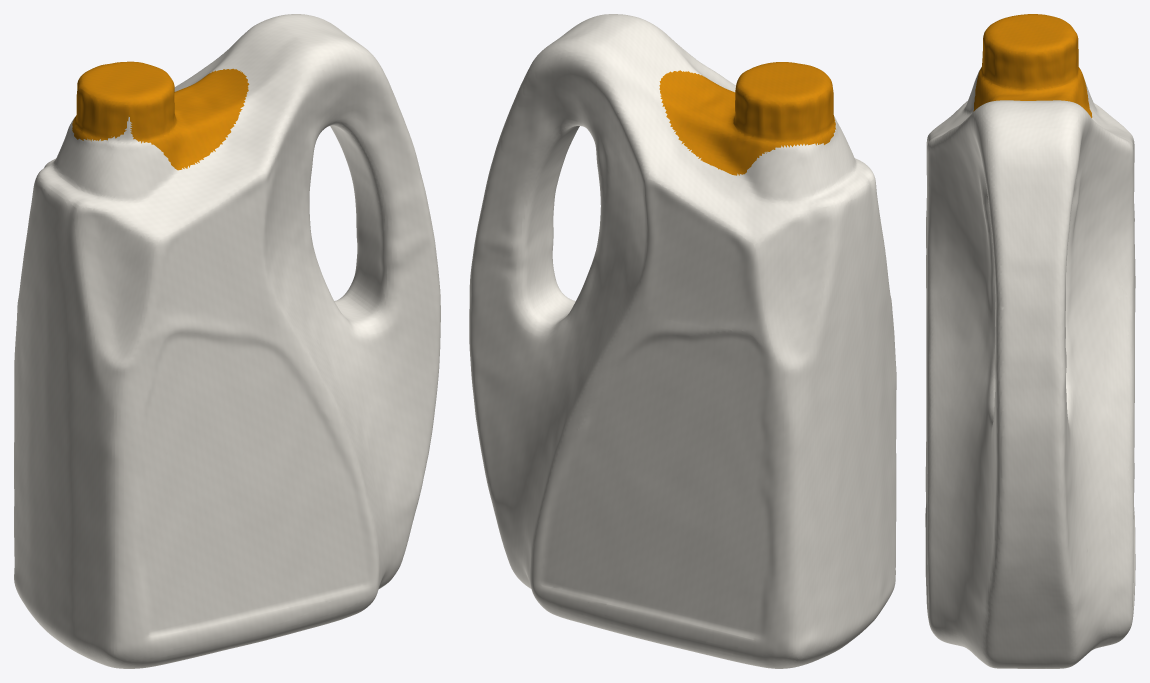
Rendered from oil-bottle-procedural.glb.
3 views of the same model, side by side, from view 1: azimuth 30°, elevation 25°; view 2: azimuth 150°, elevation 25°; view 3: azimuth 270°, elevation 25° (orthographic). The views are drawn at different scales.
Parts seen in each view (by area): view 1: FoodOilCan_Product09; view 2: FoodOilCan_Product09; view 3: FoodOilCan_Product09.
Boxes of the visible parts, left/top/right/bottom form: FoodOilCan_Product09: left=14, top=14, right=440, bottom=668; FoodOilCan_Product09: left=469, top=14, right=896, bottom=668; FoodOilCan_Product09: left=925, top=14, right=1135, bottom=668.
Size of the model in its own units: 0.1485 by 0.208 by 0.0742.
2 materials, 2 textured.
